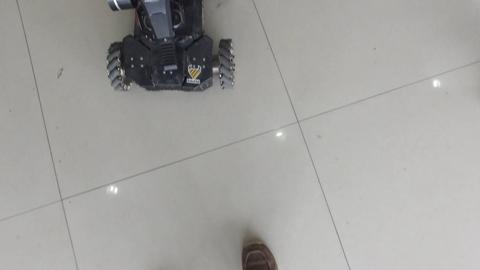chariot: (91, 1, 240, 109)
